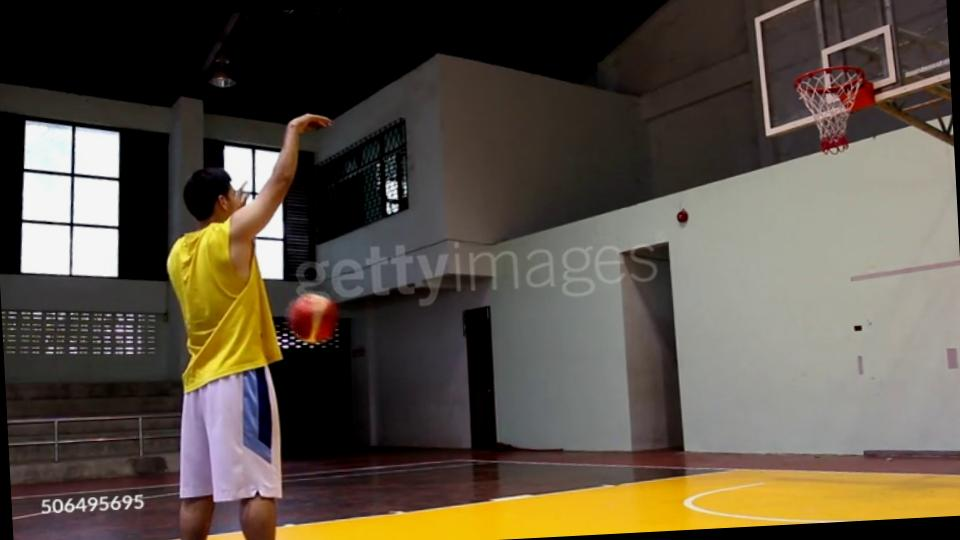hoop: (785, 62, 873, 94)
